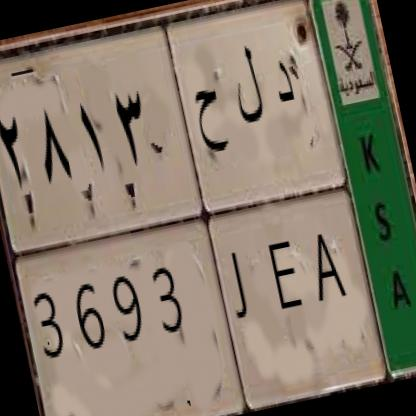english: (5, 159, 393, 416), (313, 364, 323, 368)
